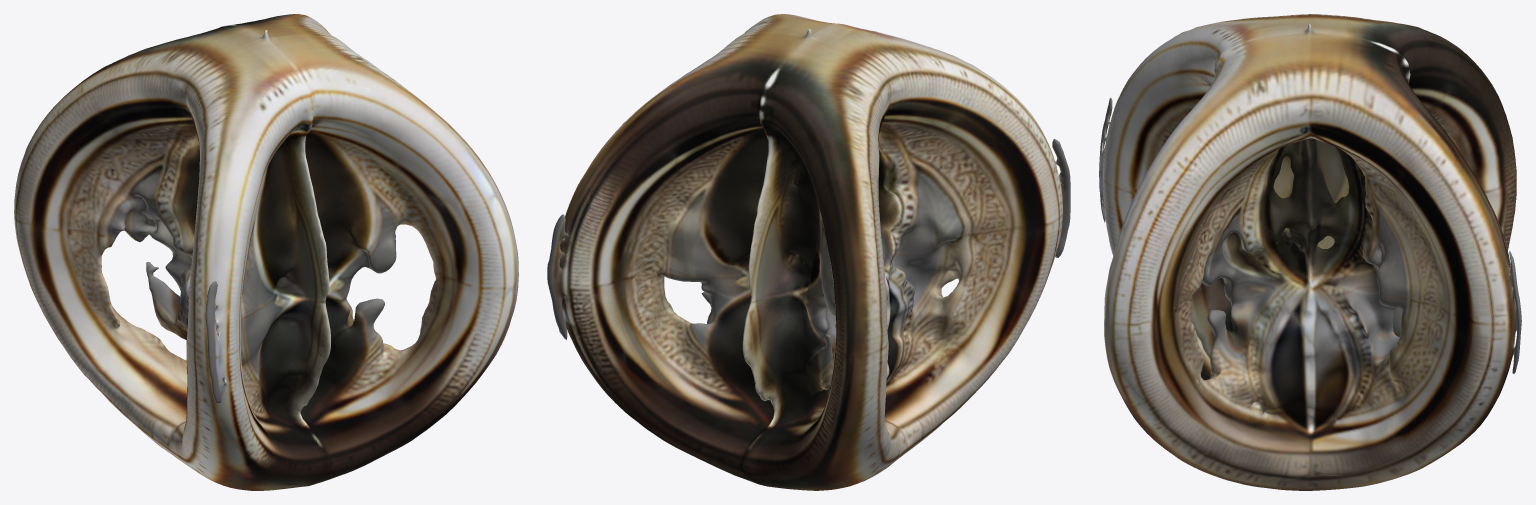
File: vesica_piscis_3d.glb
3 views of the same model, side by side, from view 1: azimuth 30°, elevation 25°; view 2: azimuth 150°, elevation 25°; view 3: azimuth 270°, elevation 25° (orthographic). The views are drawn at different scales.
Parts seen in each view (by area): view 1: tripo_node_515fbf2c-d5a5-474e-8f15-73e78d331651; view 2: tripo_node_515fbf2c-d5a5-474e-8f15-73e78d331651; view 3: tripo_node_515fbf2c-d5a5-474e-8f15-73e78d331651.
Part boxes in pixels (box(x1,y1,x2,y2)): tripo_node_515fbf2c-d5a5-474e-8f15-73e78d331651: box(14, 14, 518, 490); tripo_node_515fbf2c-d5a5-474e-8f15-73e78d331651: box(547, 14, 1070, 490); tripo_node_515fbf2c-d5a5-474e-8f15-73e78d331651: box(1099, 14, 1521, 490).
Bounding box in the file's own units: 0.5582 × 0.7373 × 0.6179.
Materials: 1 (1 with a texture image).
